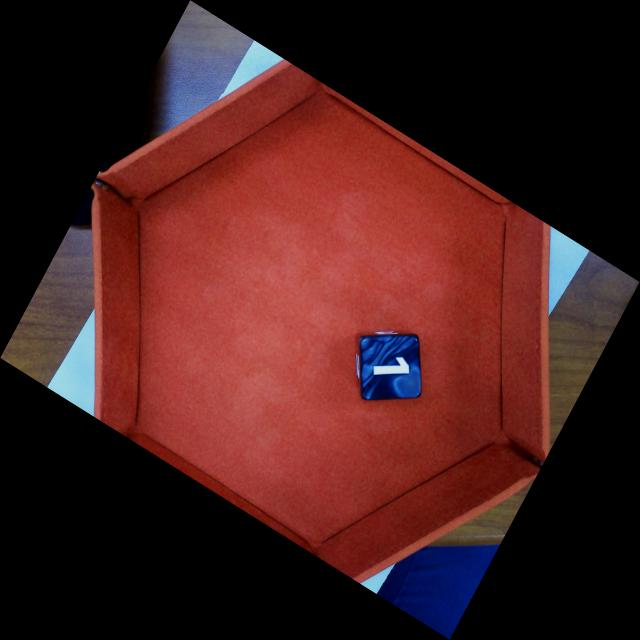dice: (364, 335, 419, 397)
